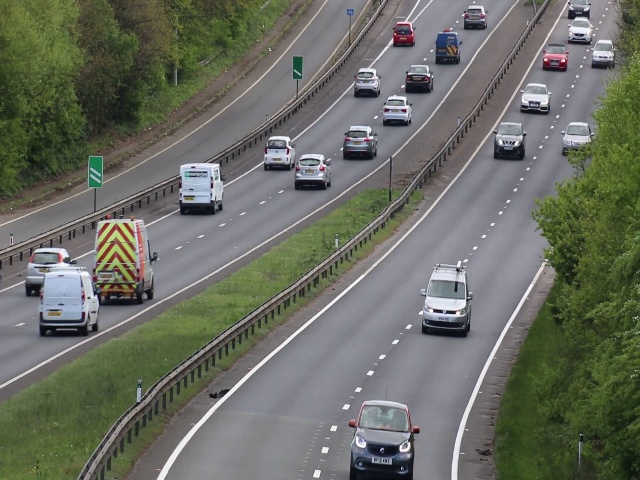car: (91, 217, 157, 304), (348, 397, 416, 480), (414, 263, 477, 335), (39, 271, 100, 339), (22, 244, 78, 298), (177, 162, 223, 218), (563, 115, 595, 160), (292, 153, 332, 188), (517, 75, 553, 113), (493, 118, 524, 162), (342, 119, 377, 157), (263, 134, 297, 168), (382, 90, 412, 125), (433, 32, 464, 65), (541, 40, 569, 72), (404, 65, 437, 91), (589, 37, 617, 67), (567, 16, 593, 46), (463, 2, 489, 30), (354, 66, 379, 95), (393, 19, 416, 49)
